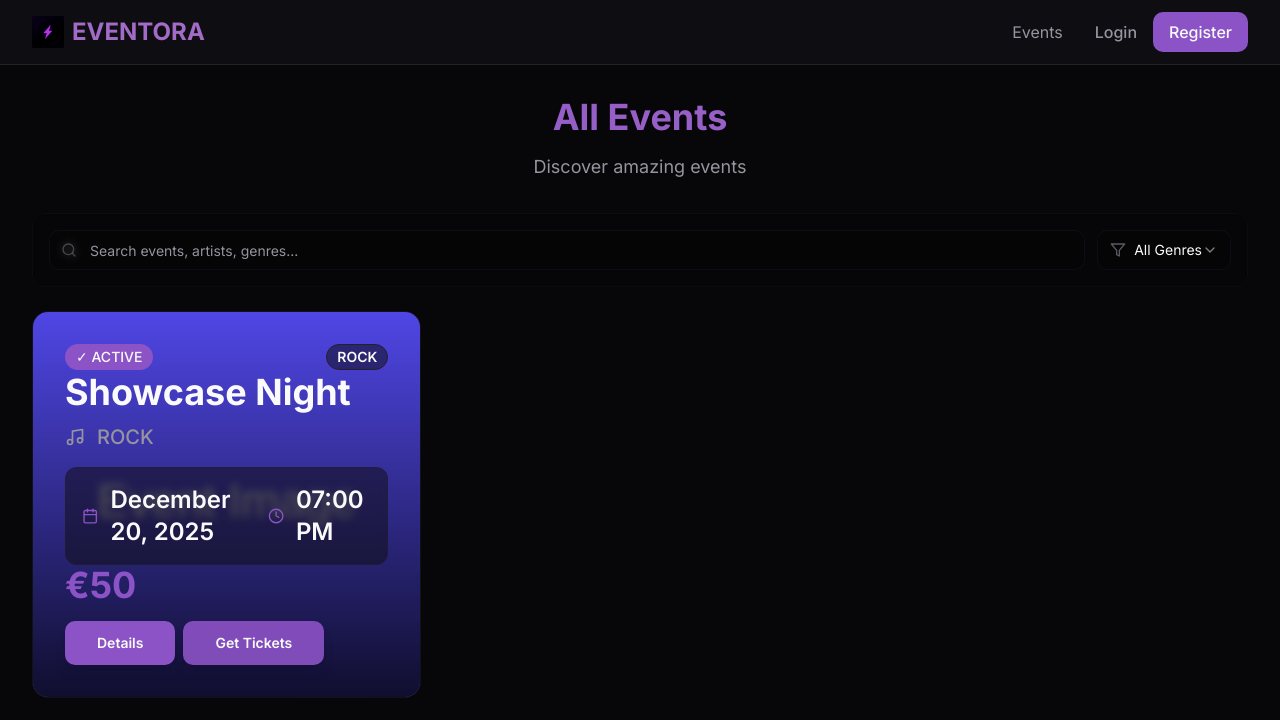
Test: Event details essentials › active event › opens an event card and shows key details
Click the element with test id "event-card".
click(227, 505)  # box [32,311,421,698]
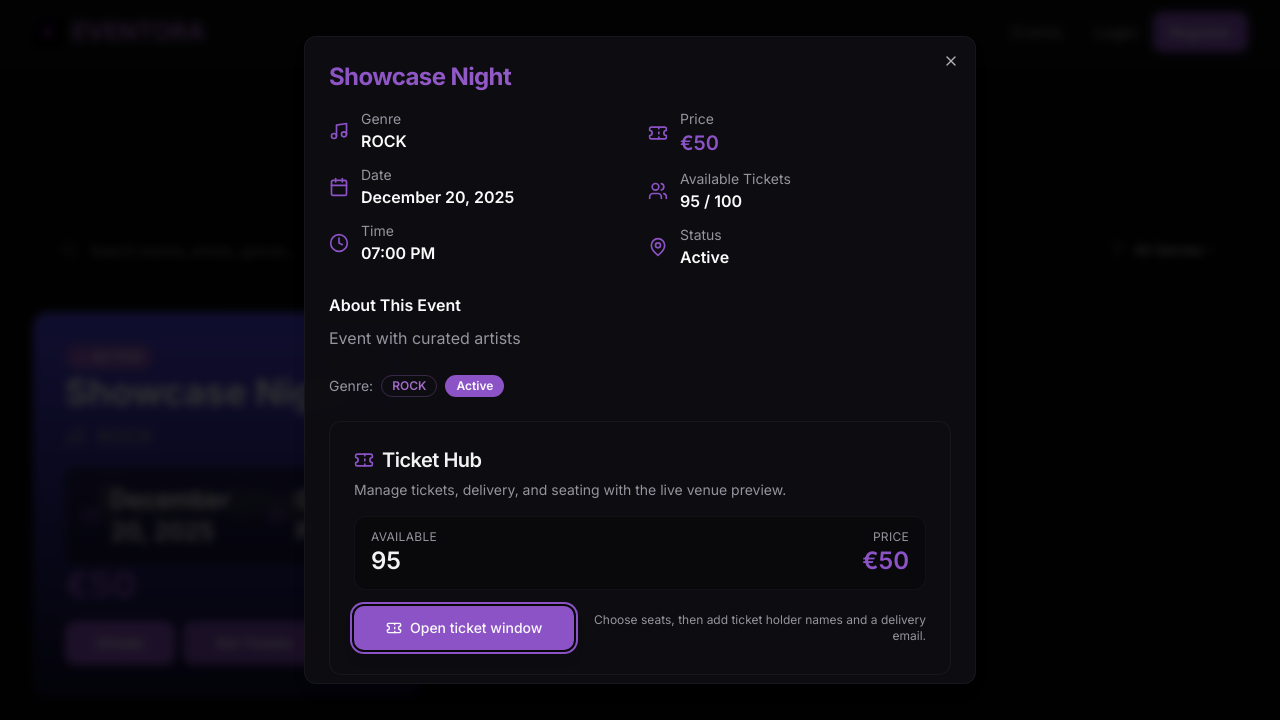
Result: the heading with test id "event-details-title" reads "Showcase Night" at [329,61,951,93]
Result: the text with test id "event-genre" reads "ROCK" at [361,129,407,153]
Result: the text with test id "event-details-price" reads "€50" at [680,129,719,157]
